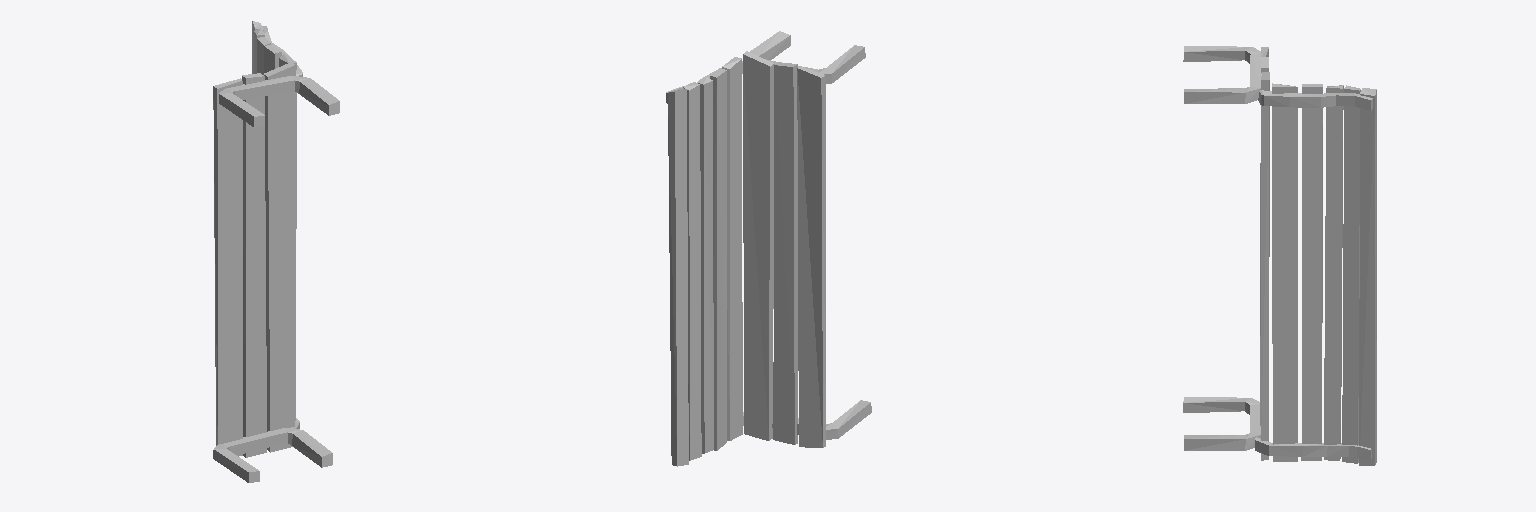
3 views of the same model, side by side, from view 1: azimuth 30°, elevation 25°; view 2: azimuth 150°, elevation 25°; view 3: azimuth 270°, elevation 25° (orthographic).
Visible parts, largest first — view 1: Bench.018_model.019; view 2: Bench.018_model.019; view 3: Bench.018_model.019.
Part boxes in pixels (x1,y1,x2,y2): Bench.018_model.019: (213,21,339,482); Bench.018_model.019: (666,31,871,466); Bench.018_model.019: (1183,46,1376,465).
Bounding box in the file's own units: 75.93 × 244 × 113.